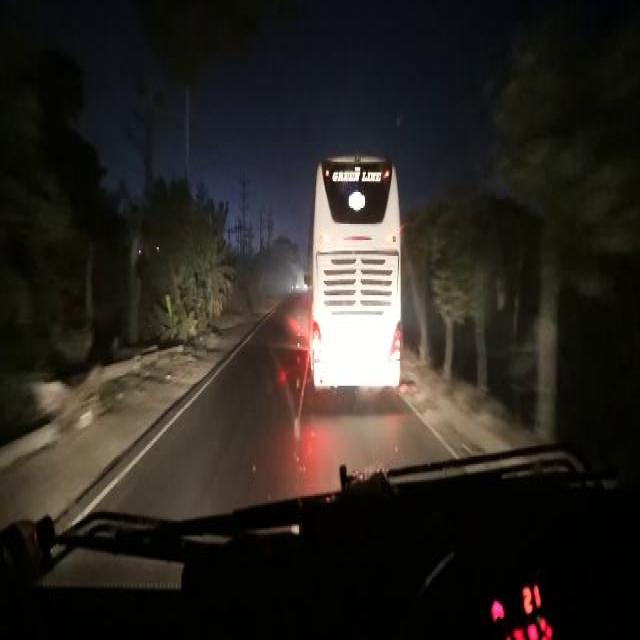Truck: (307, 147, 401, 390)
